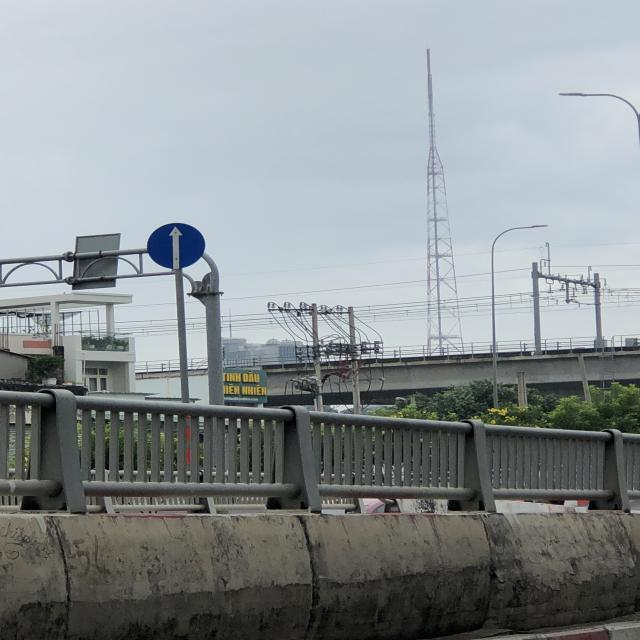Bien bao huong di thang phai theo: (143, 221, 210, 271)
